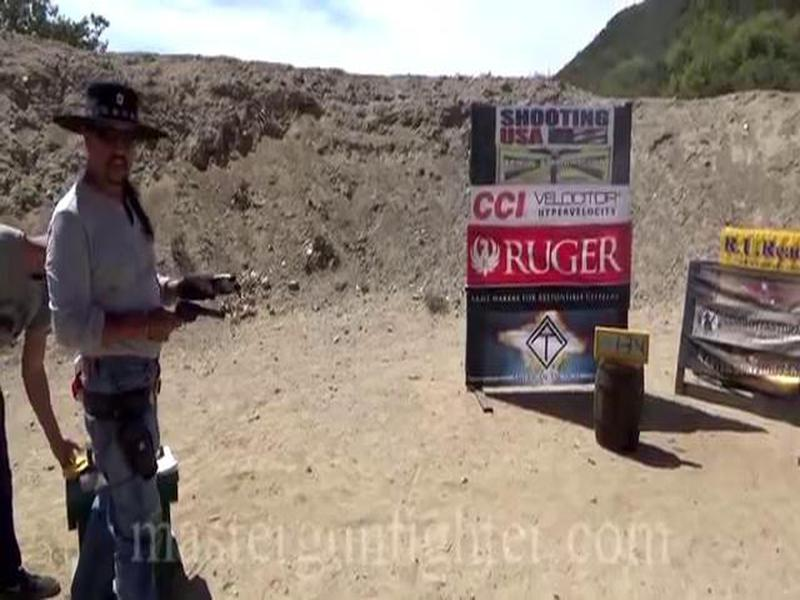Revolver: (142, 290, 244, 357)
